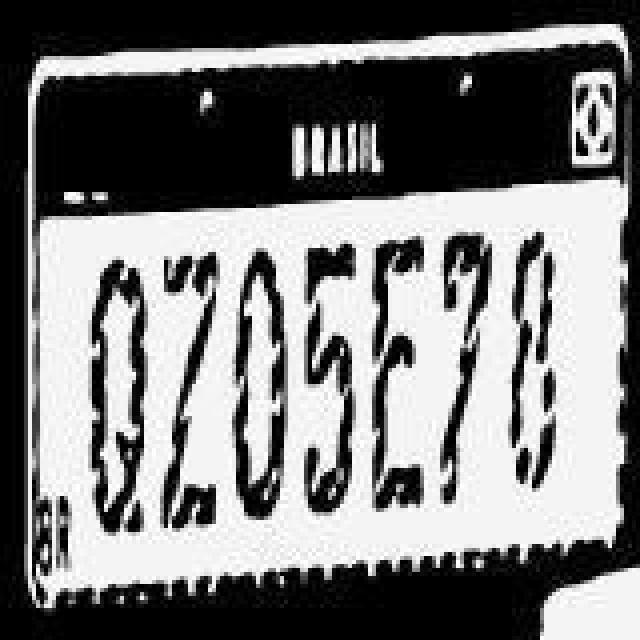5: (306, 236, 358, 516)
7: (440, 232, 496, 512)
8: (510, 230, 562, 490)
E: (366, 234, 426, 510)
O: (236, 244, 292, 532)
Q: (90, 256, 150, 536)
Z: (160, 248, 224, 536)
